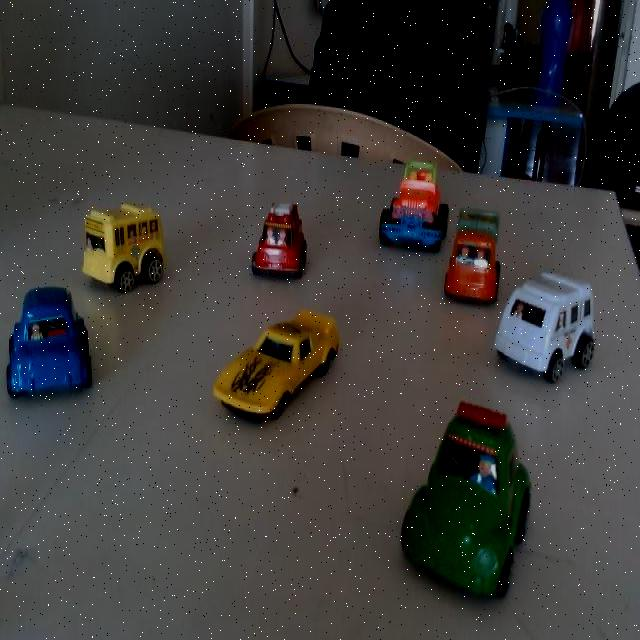car: (406, 410, 549, 580), (212, 300, 350, 427), (489, 254, 606, 398), (5, 286, 91, 398), (88, 201, 175, 300), (369, 152, 447, 251), (444, 198, 508, 310), (251, 192, 321, 292)
